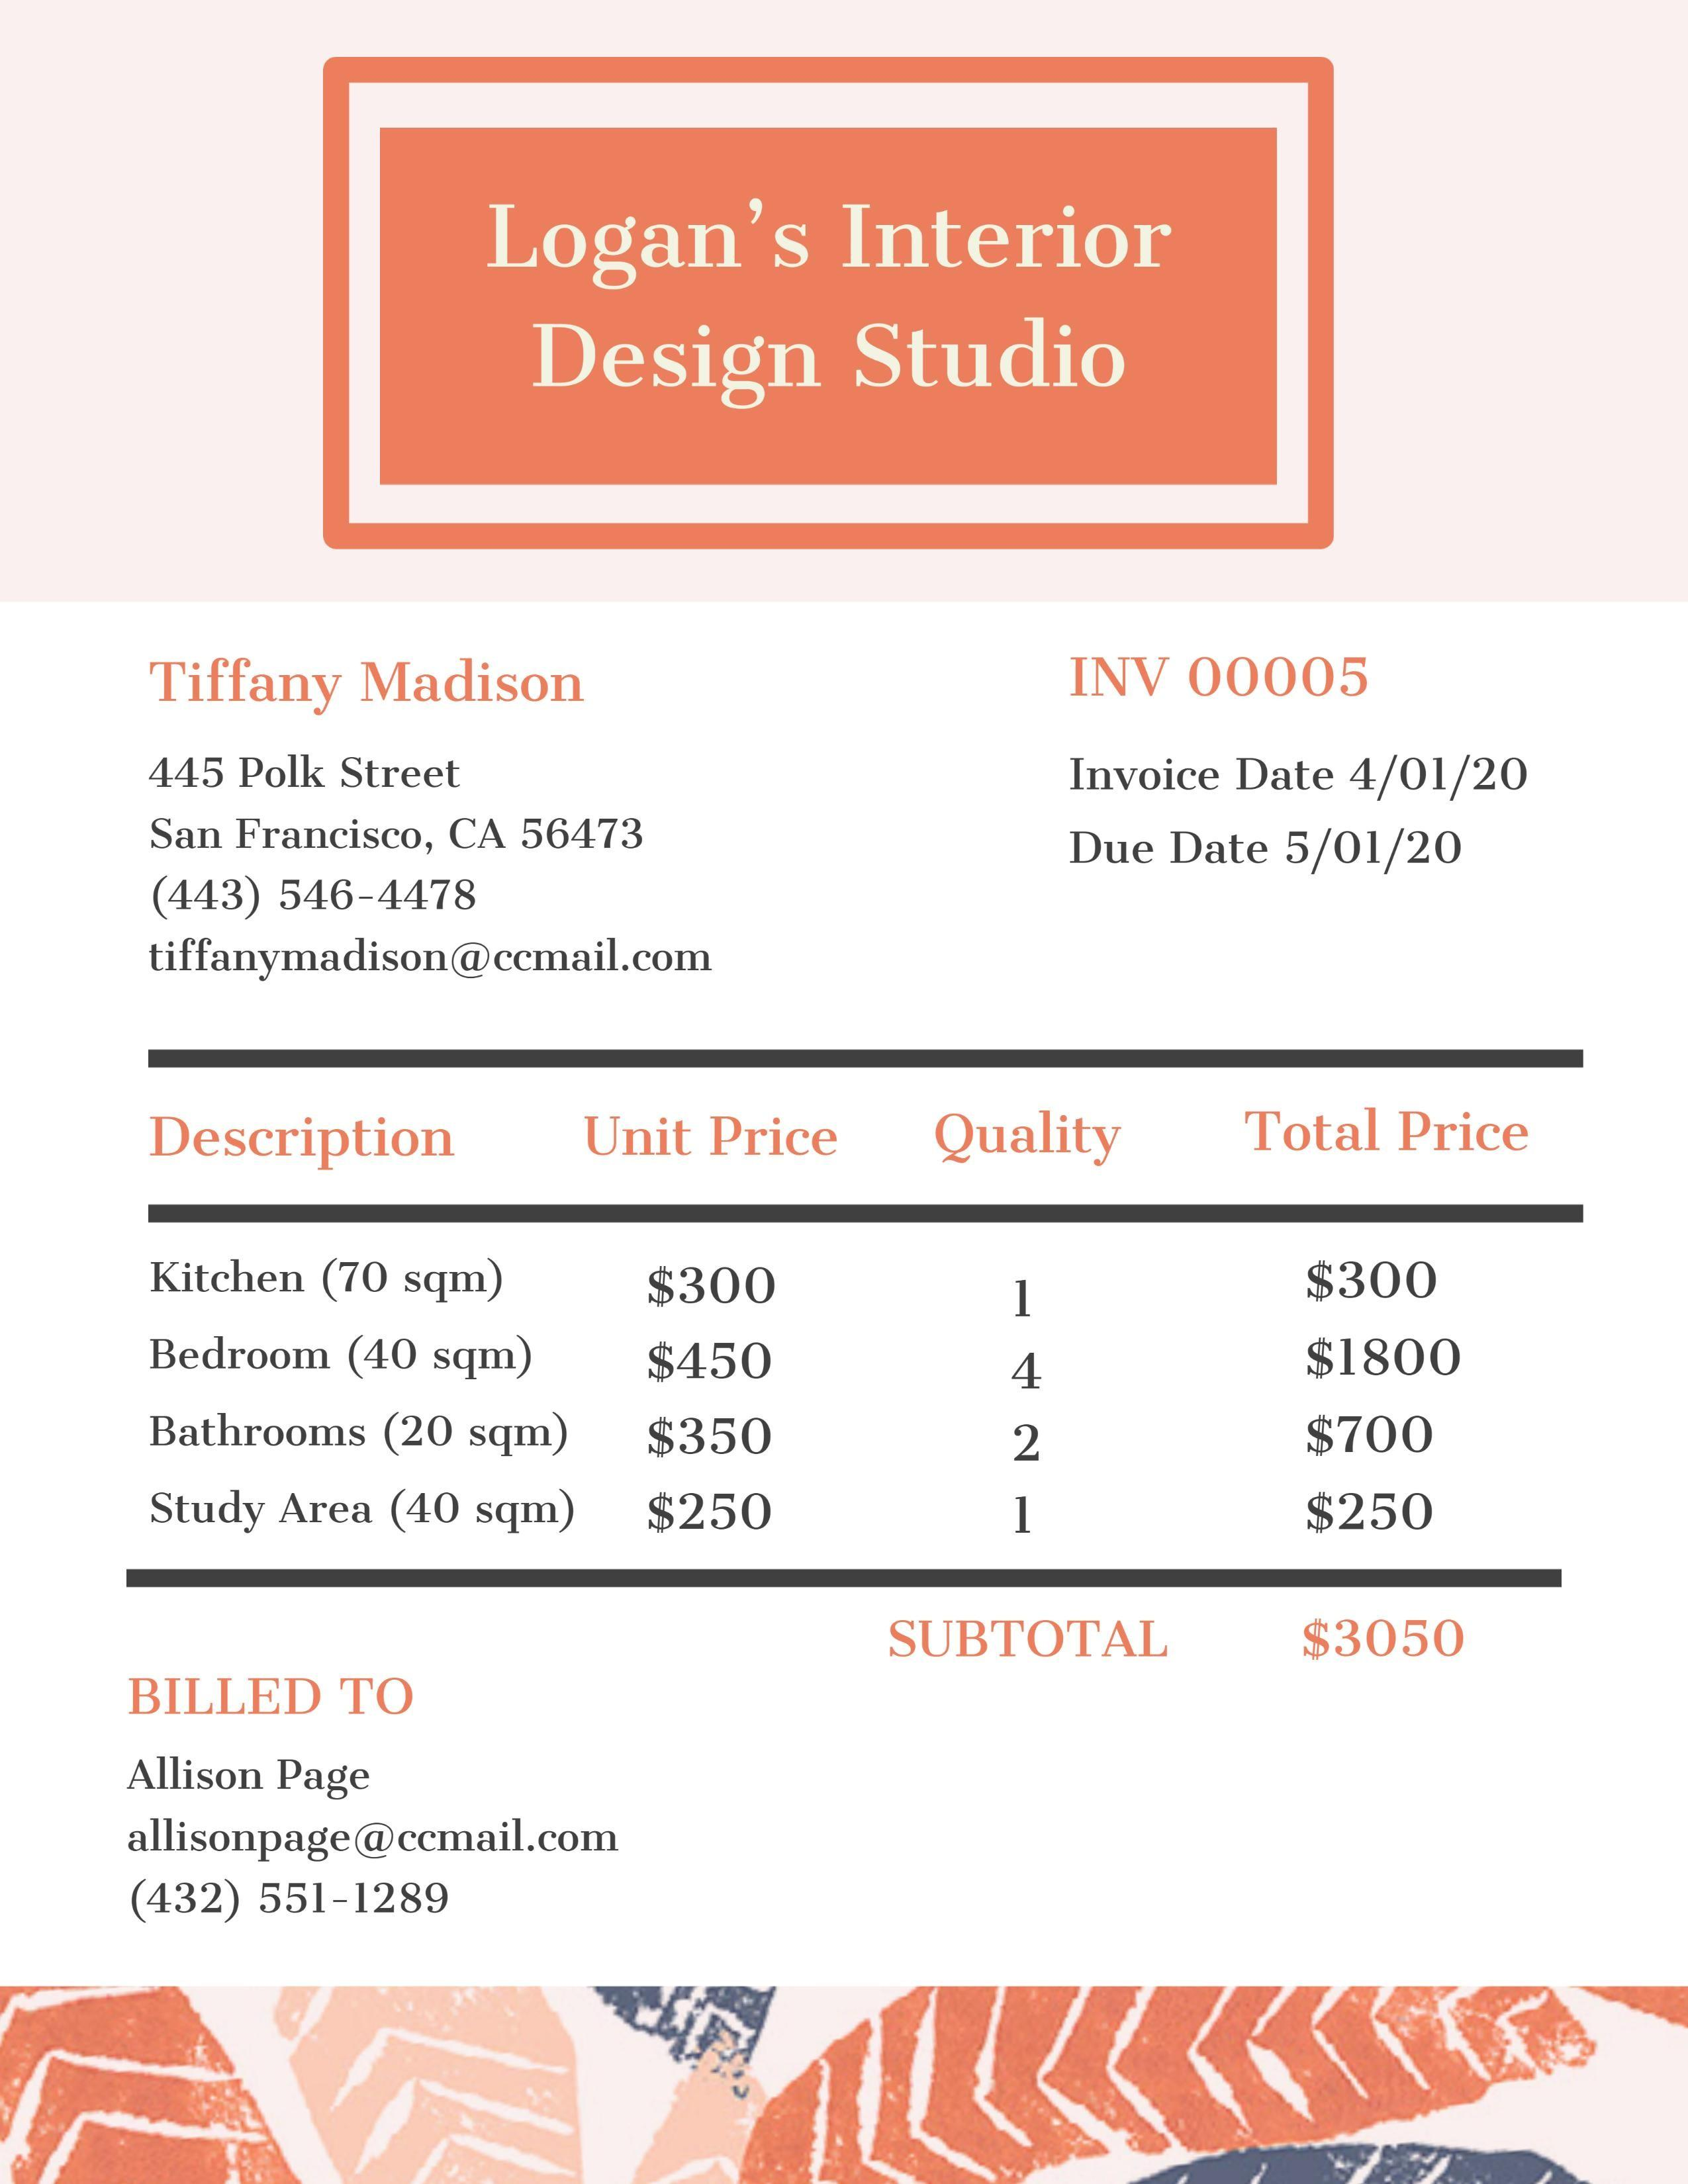ROI: (145, 1083, 1585, 1564), (117, 613, 814, 1025), (459, 184, 1218, 424), (1037, 629, 1622, 916), (113, 1654, 672, 1950), (839, 1595, 1559, 1684)
